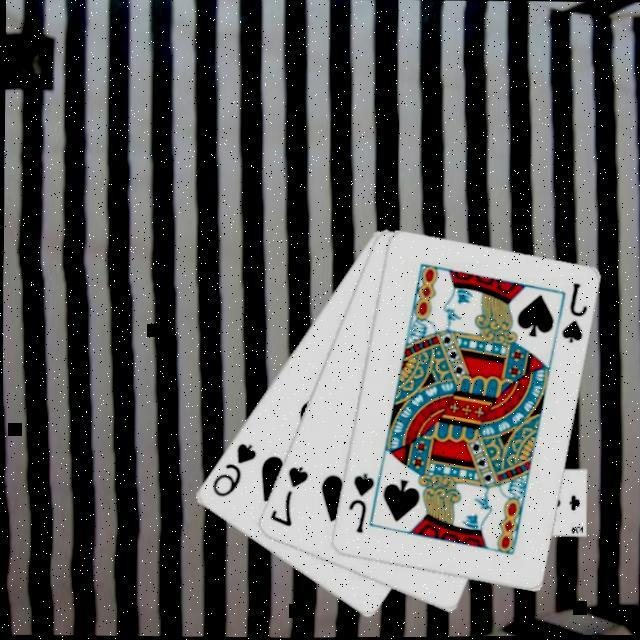7S: (266, 464, 311, 531)
9S: (209, 440, 260, 502)
JS: (345, 470, 378, 537), (558, 281, 591, 348)
